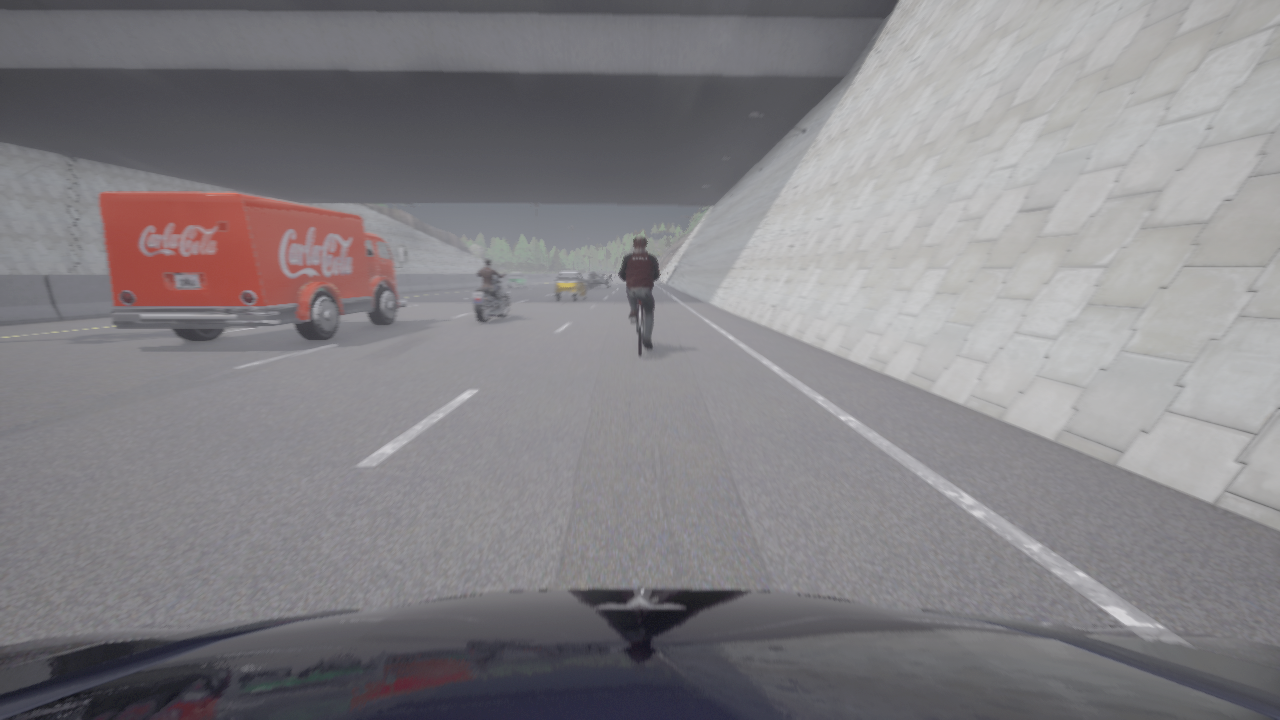cyclist: (0, 588, 1279, 719), (100, 191, 406, 340), (471, 272, 509, 322), (631, 300, 650, 355), (555, 270, 586, 301), (587, 270, 611, 287), (508, 272, 526, 287)
